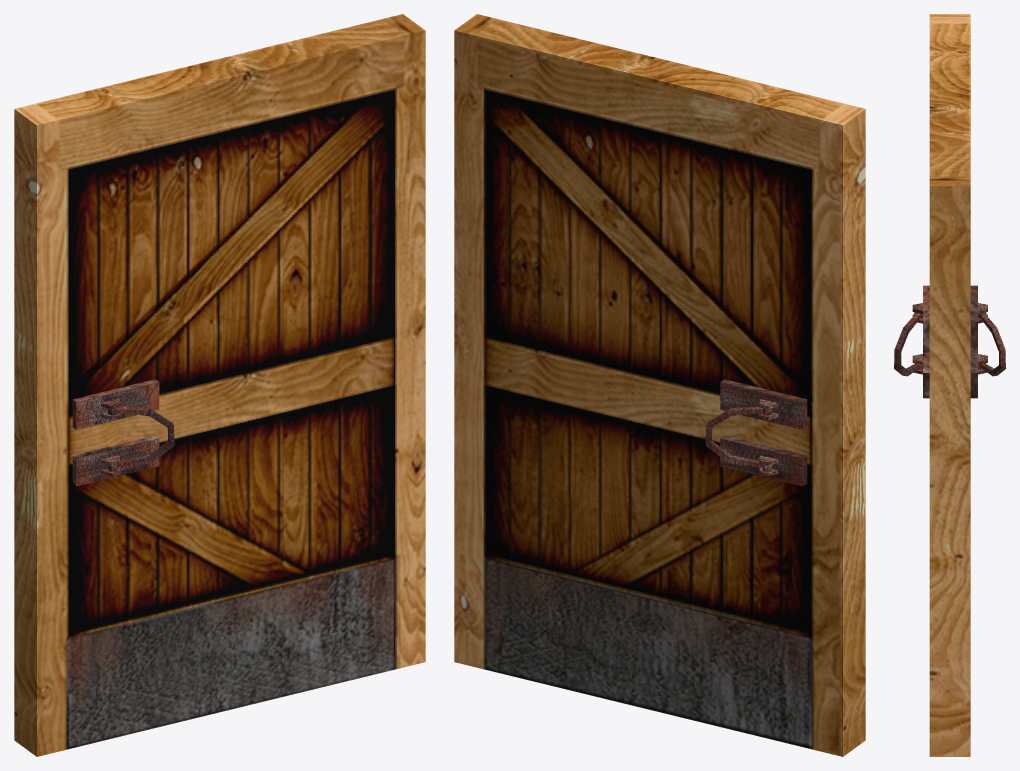
The model's file is Prop_AM_Door_B.fbx.
The picture shows the model from 3 angles, left to right: view 1: azimuth 30°, elevation 25°; view 2: azimuth 150°, elevation 25°; view 3: azimuth 270°, elevation 25°; orthographic projection. The views are drawn at different scales.
Visible parts, largest first — view 1: Prop_AM_Door_B; view 2: Prop_AM_Door_B; view 3: Prop_AM_Door_B.
Boxes of the visible parts, x1,y1,x2,y2 form: Prop_AM_Door_B: (14, 14, 425, 756); Prop_AM_Door_B: (454, 14, 865, 756); Prop_AM_Door_B: (894, 14, 1005, 756).
Size of the model in its own units: 2.61 by 4.05 by 0.7191.
Materials: 1 (1 with a texture image).
